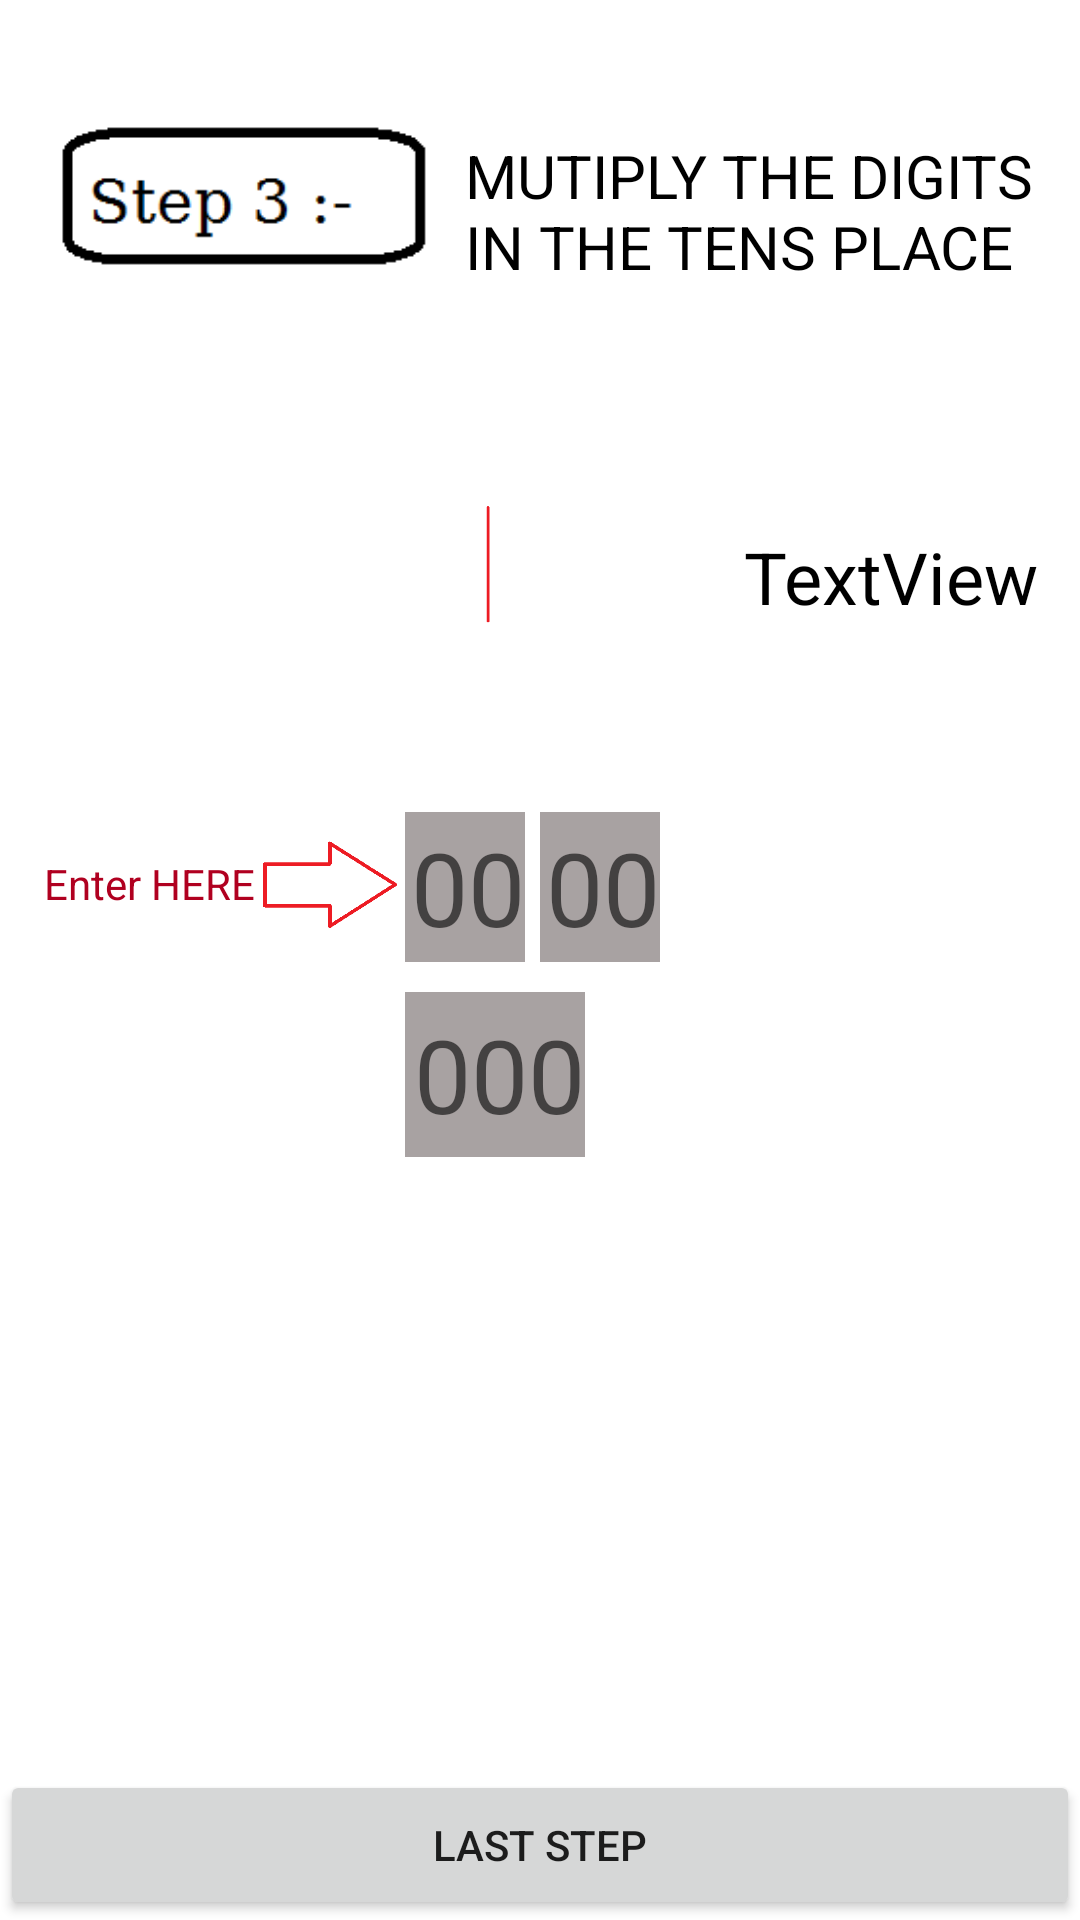

Named icons in this screenshot (1080px x 1920px) and their centers, point (x, y):
right arrow: point (330, 884)
